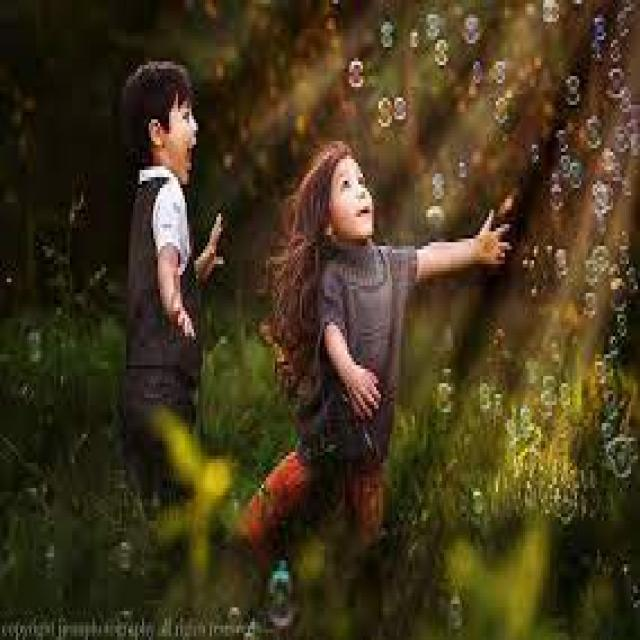Edited images: (110, 48, 492, 568)
